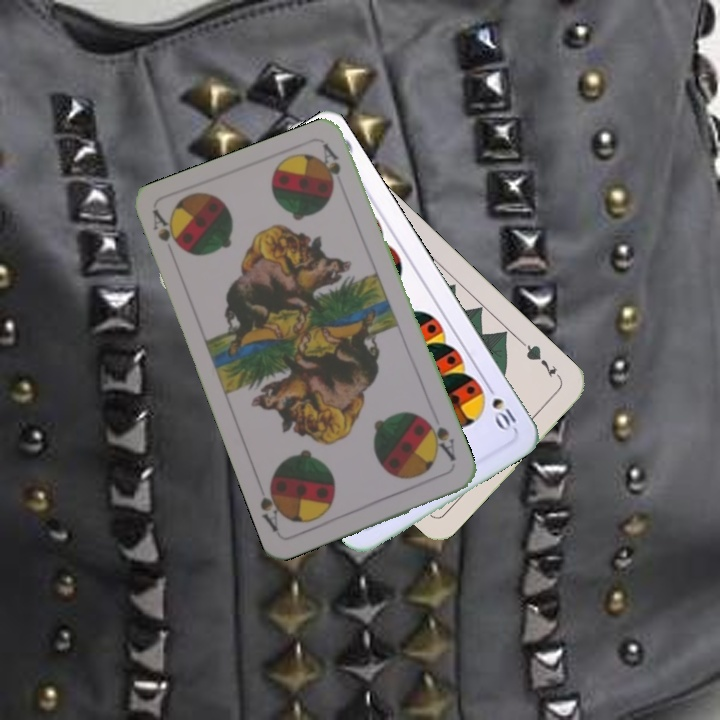G7: (517, 338, 565, 383)
S10: (482, 379, 519, 434)
SA: (421, 415, 459, 469), (149, 207, 187, 255)
